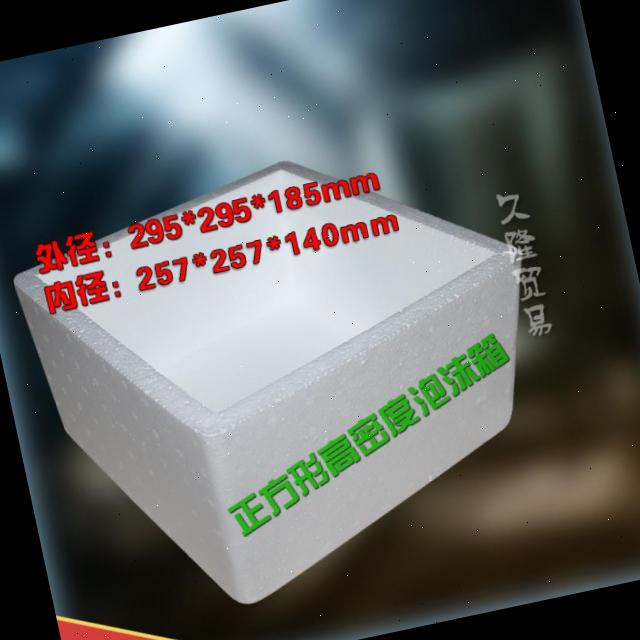styrofoam: (0, 113, 580, 637)
